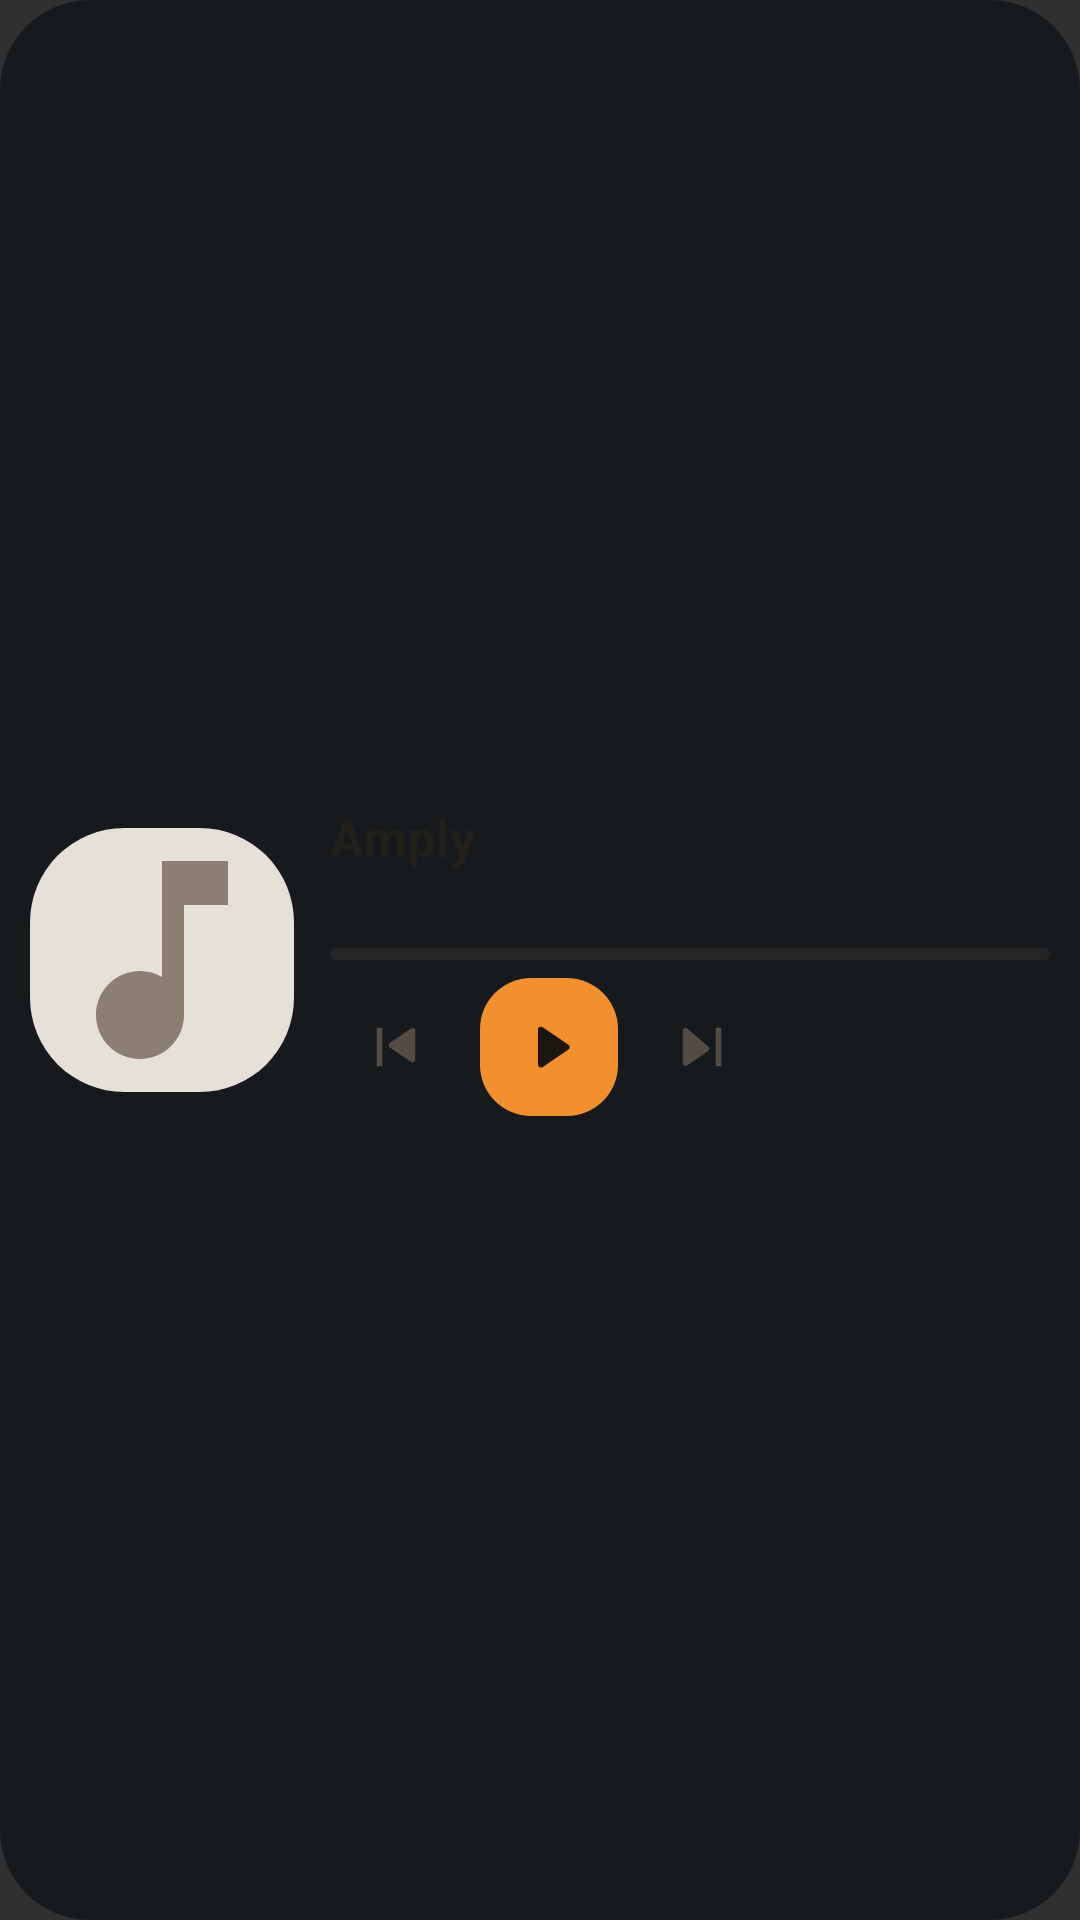

Screen size 1080 x 1920. Icon name, then its box in pixels as (x1, y1, x2, y2):
Next: (683, 1028, 721, 1066)
Play or pause: (480, 978, 618, 1116)
Previous: (377, 1028, 415, 1066)
